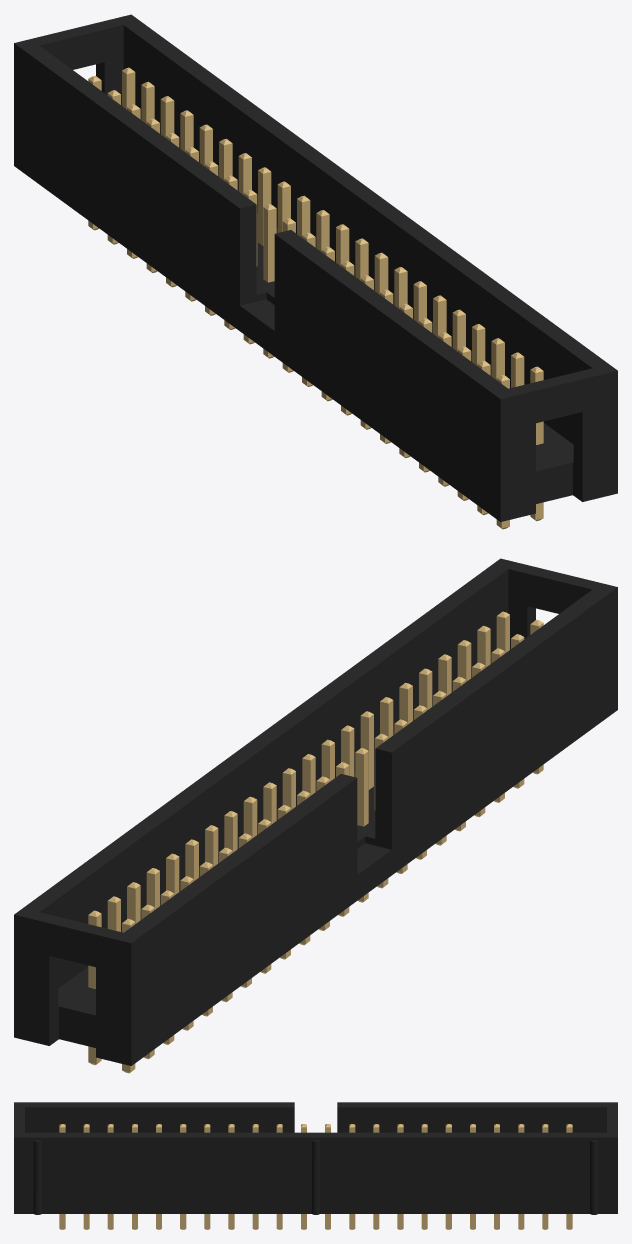
Rendered from kc-idc-header_2x22_p2.54mm_vertical.glb.
3 views of the same model, one above another, from view 1: azimuth 30°, elevation 25°; view 2: azimuth 150°, elevation 25°; view 3: azimuth 270°, elevation 25° (orthographic). The views are drawn at different scales.
Parts seen in each view (by area): view 1: 0_0_0_0, 0.75_0.5_0.25_0.9; view 2: 0_0_0_0, 0.75_0.5_0.25_0.9; view 3: 0_0_0_0, 0.75_0.5_0.25_0.9.
Part boxes in pixels (x1=…): 0_0_0_0: x1=14, y1=14, x2=617, y2=521; 0.75_0.5_0.25_0.9: x1=88, y1=67, x2=543, y2=529; 0_0_0_0: x1=14, y1=558, x2=617, y2=1065; 0.75_0.5_0.25_0.9: x1=88, y1=611, x2=543, y2=1073; 0_0_0_0: x1=14, y1=1102, x2=617, y2=1214; 0.75_0.5_0.25_0.9: x1=59, y1=1124, x2=572, y2=1229.
Size of the model in its own units: 0.9098 by 1.21 by 6.35.
